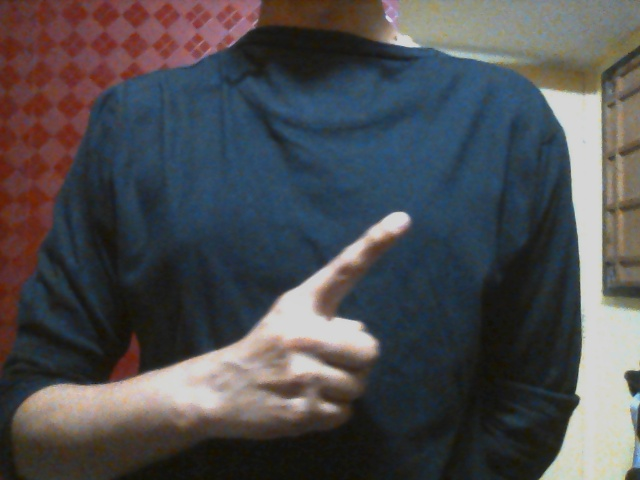I: (222, 210, 412, 443)
